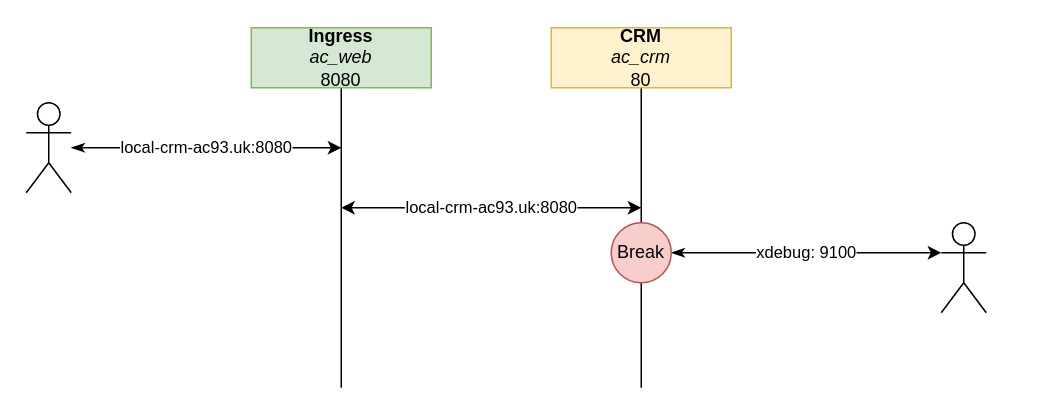
Image size: 1037x416. Some labels were removed from this diagram. Here are the shapes that lost their labels. From the top down, the centre of each, then its label:
At point 48,147: "User".
At point 963,267: "Developer 192.168.1.6".
